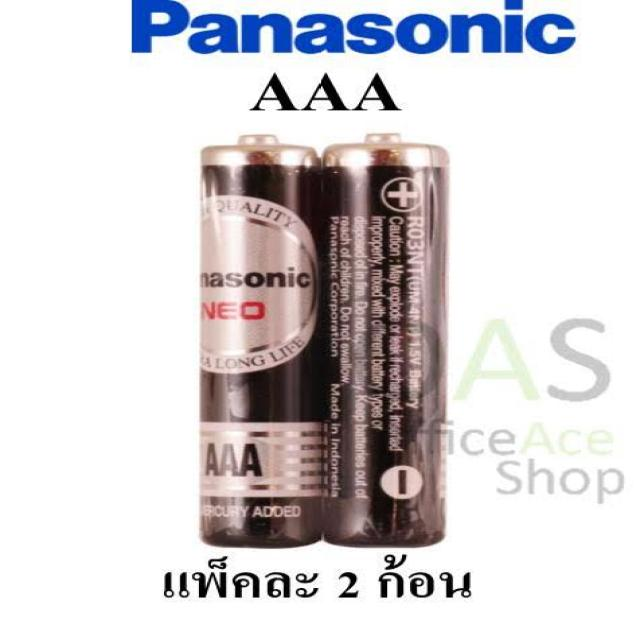battery: (169, 138, 333, 559)
